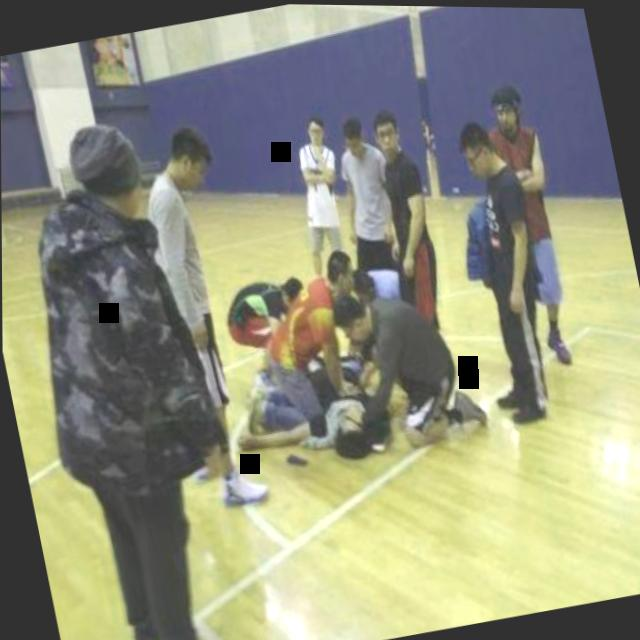Fall-Detected: (217, 329, 400, 491)
